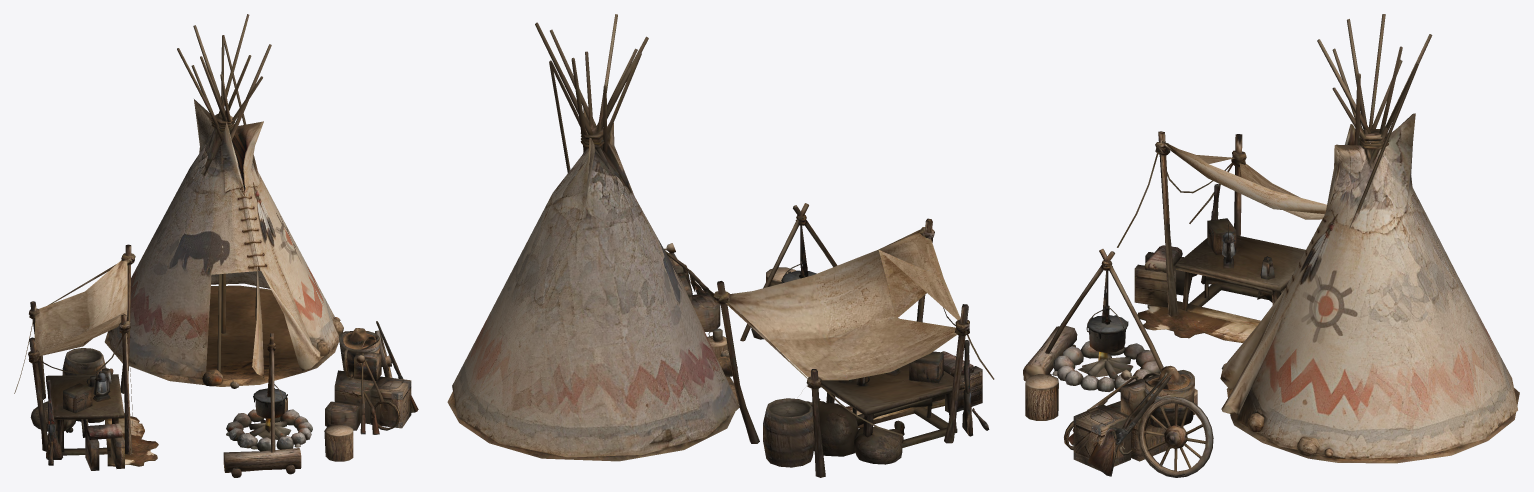
Rendered from camp2.glb.
The picture shows the model from 3 angles, left to right: view 1: azimuth 30°, elevation 25°; view 2: azimuth 150°, elevation 25°; view 3: azimuth 270°, elevation 25°; orthographic projection. The views are drawn at different scales.
Parts seen in each view (by area): view 1: tripo_part_0; view 2: tripo_part_0; view 3: tripo_part_0.
Boxes of the visible parts, x1,y1,x2,y2 form: tripo_part_0: (14,14,418,477); tripo_part_0: (447,14,994,477); tripo_part_0: (1023,14,1519,477).
Size of the model in its own units: 7 by 6.2 by 6.96.
Materials: 1 (1 with a texture image).
